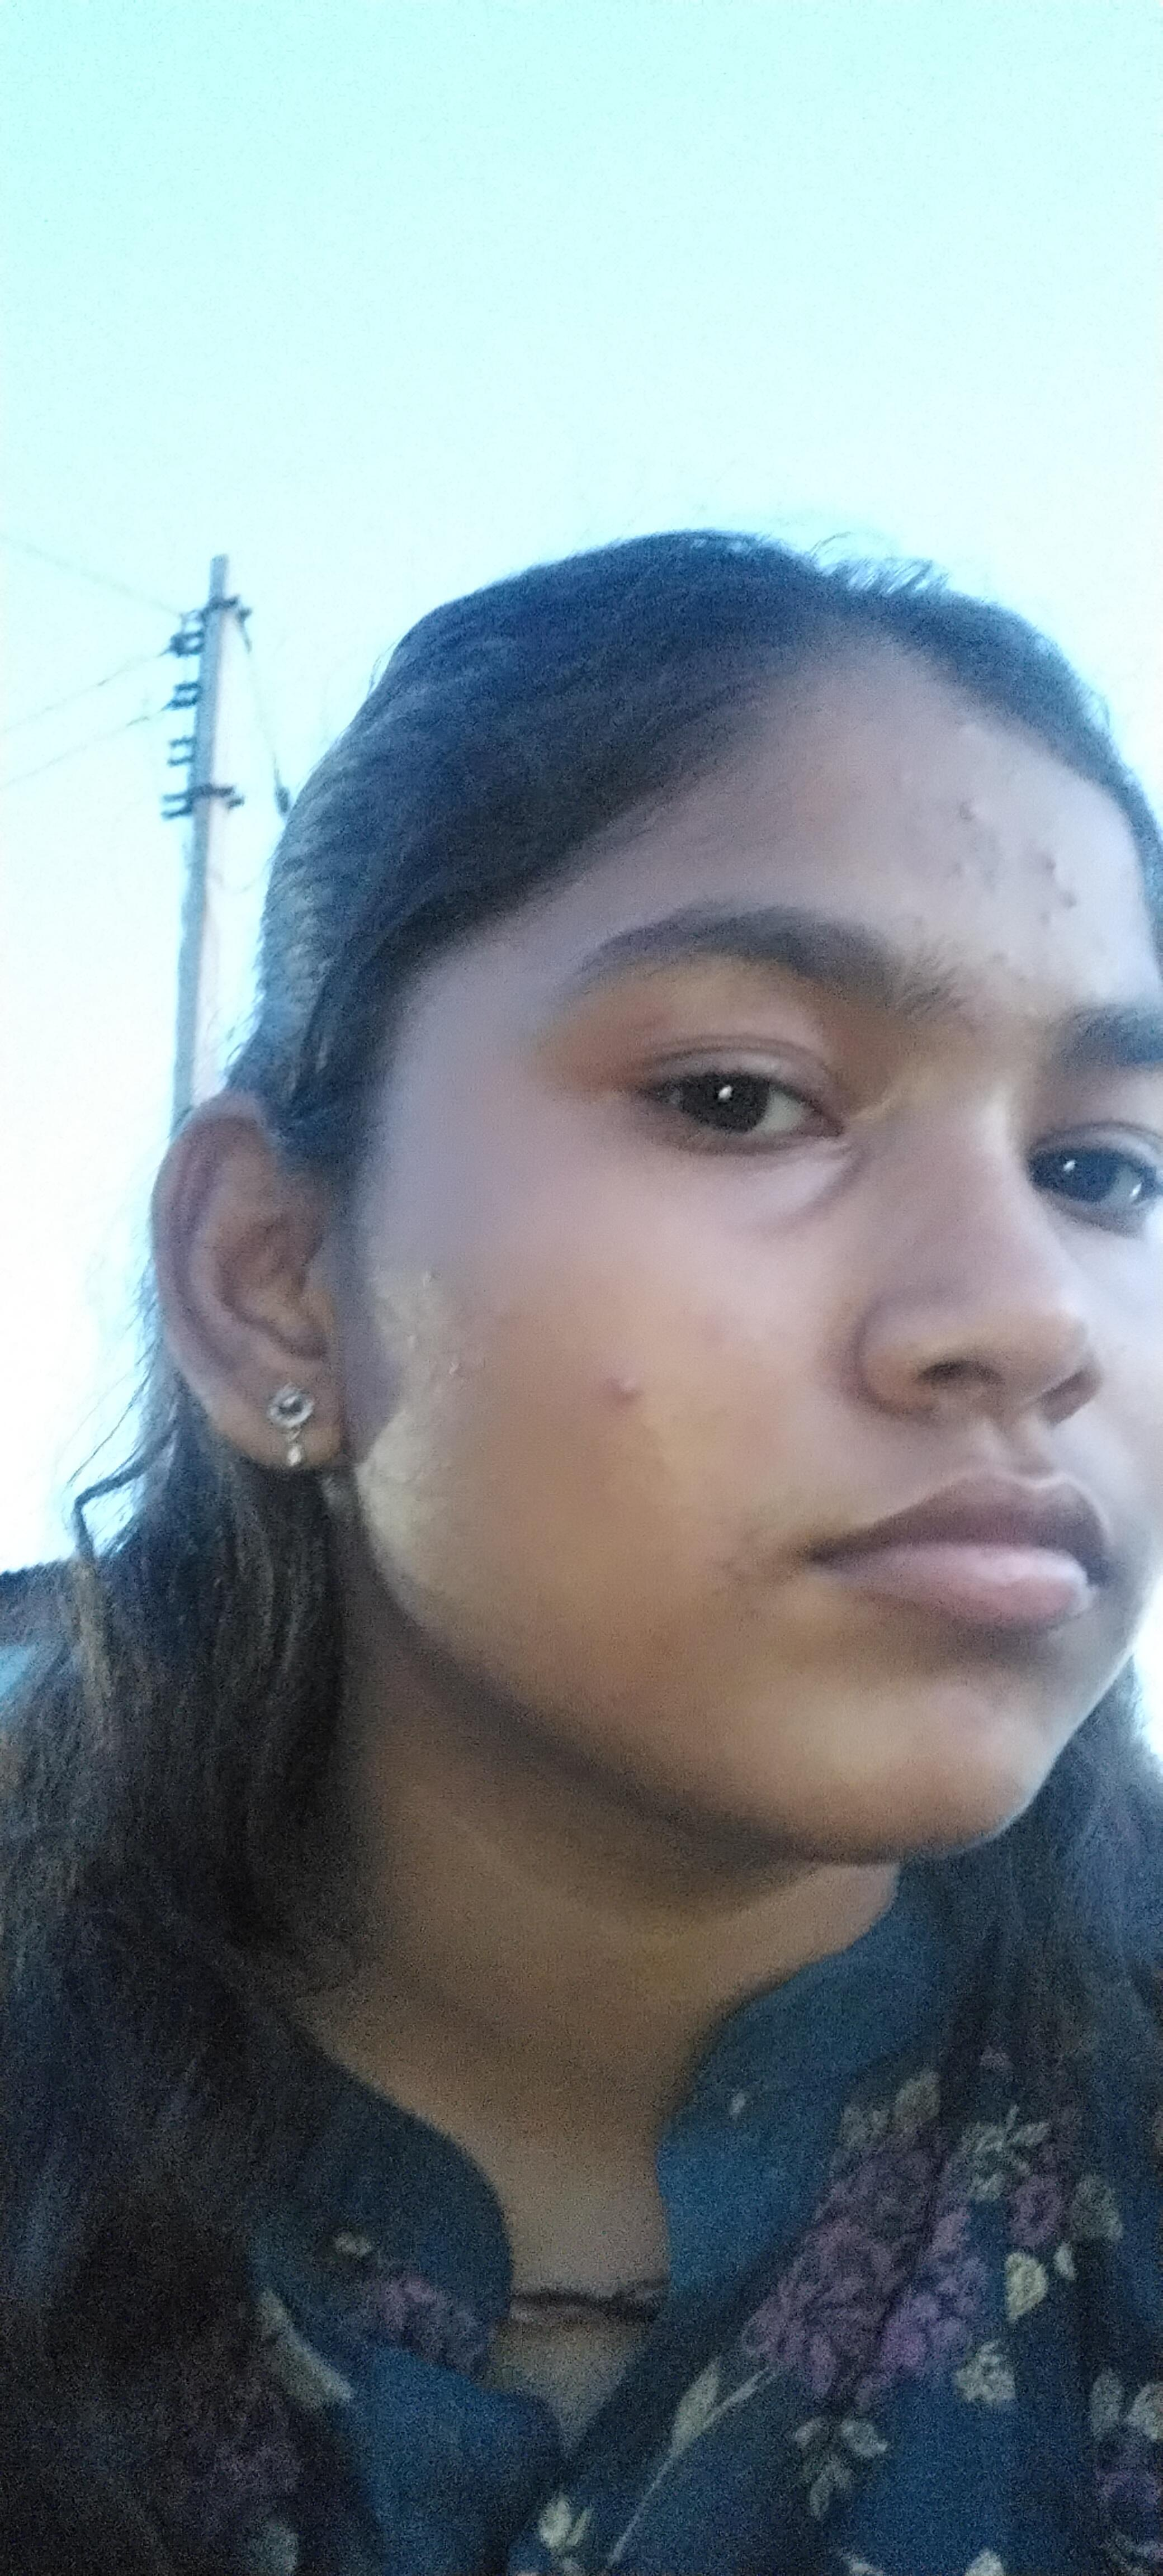Acne: (974, 826, 1009, 897), (989, 946, 1033, 984), (887, 757, 920, 807), (606, 1370, 650, 1406), (949, 794, 989, 825), (1033, 843, 1064, 879), (1053, 884, 1086, 913), (951, 713, 986, 739), (948, 856, 972, 885), (905, 910, 931, 936), (439, 1357, 468, 1380), (1037, 912, 1060, 938), (404, 1326, 425, 1350), (422, 1268, 440, 1288)
